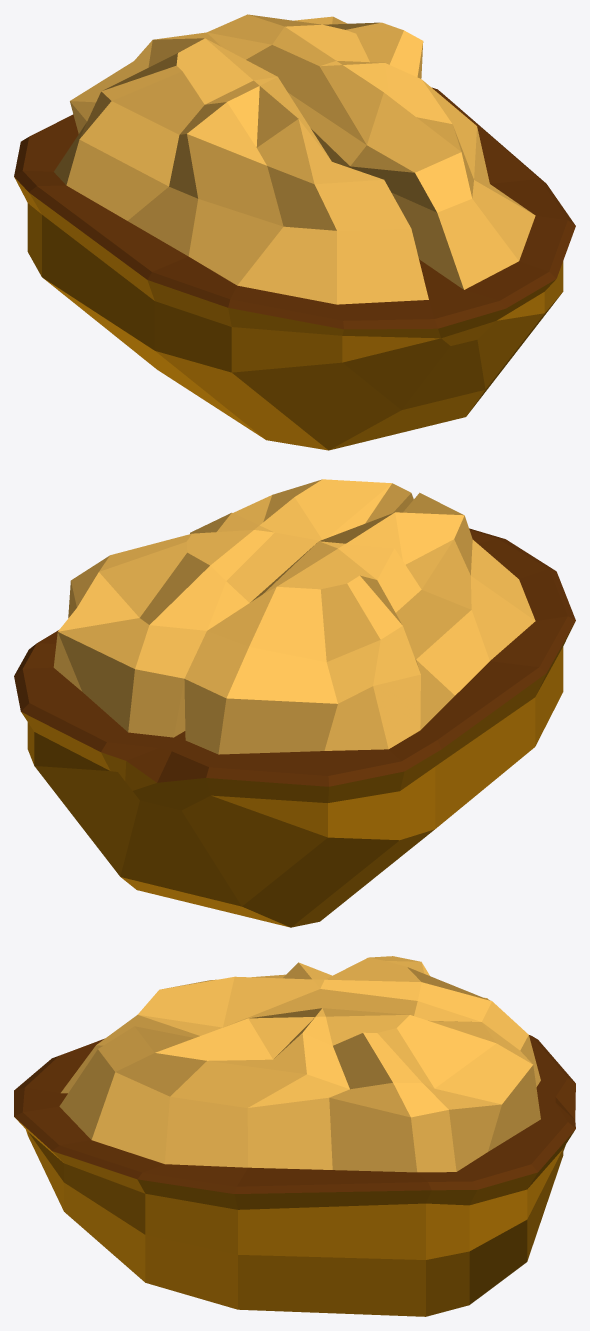
The model's file is walnut02.gltf.
The picture shows the model from 3 angles, top to bottom: view 1: azimuth 30°, elevation 25°; view 2: azimuth 150°, elevation 25°; view 3: azimuth 270°, elevation 25°; orthographic projection. The views are drawn at different scales.
Parts seen in each view (by area): view 1: Cylinder.001; view 2: Cylinder.001; view 3: Cylinder.001.
Boxes of the visible parts, left/top/right/bottom form: Cylinder.001: left=14, top=14, right=575, bottom=450; Cylinder.001: left=14, top=479, right=575, bottom=927; Cylinder.001: left=14, top=956, right=575, bottom=1316.
Bounding box in the file's own units: 0.0325 × 0.0244 × 0.0434.
1 material, 1 textured.
